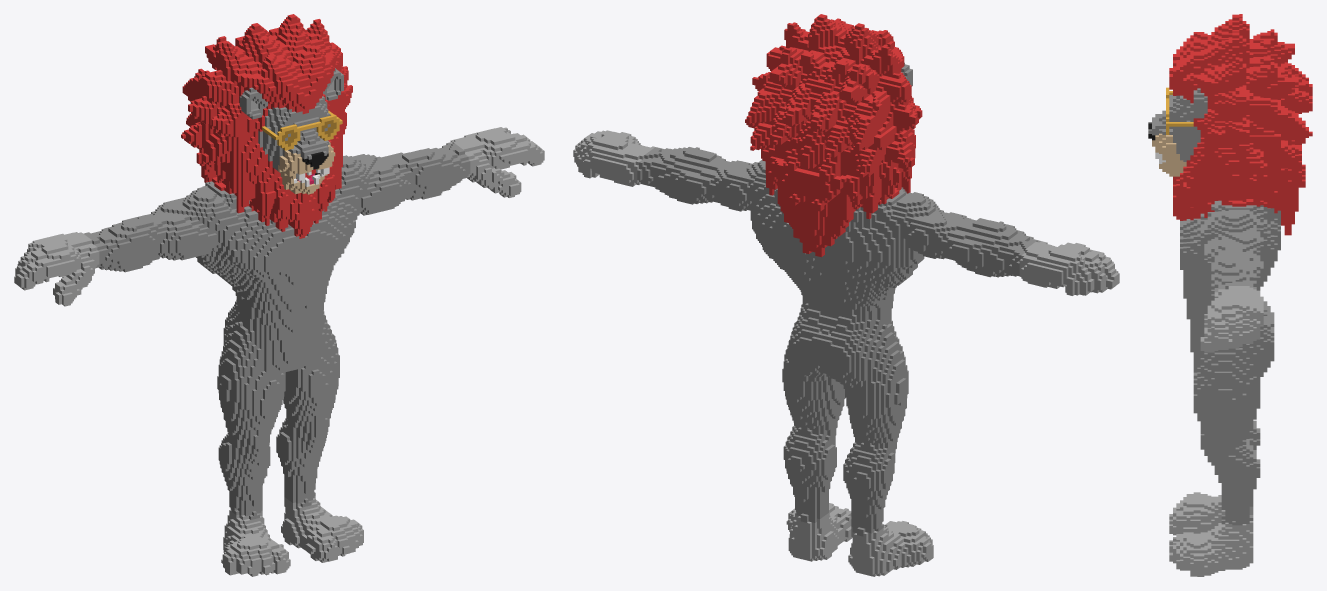
File: 483-C3BphSHS.glb
3 views of the same model, side by side, from view 1: azimuth 30°, elevation 25°; view 2: azimuth 150°, elevation 25°; view 3: azimuth 270°, elevation 25° (orthographic). The views are drawn at different scales.
Visible parts, largest first — view 1: open; view 2: open; view 3: open.
Part boxes in pixels (<box>): open: <box>14,14,544,576</box>; open: <box>573,14,1119,576</box>; open: <box>1148,14,1312,576</box>.
Size of the model in its own units: 17.2 by 16.5 by 4.7.
Materials: 4 (4 with a texture image).
